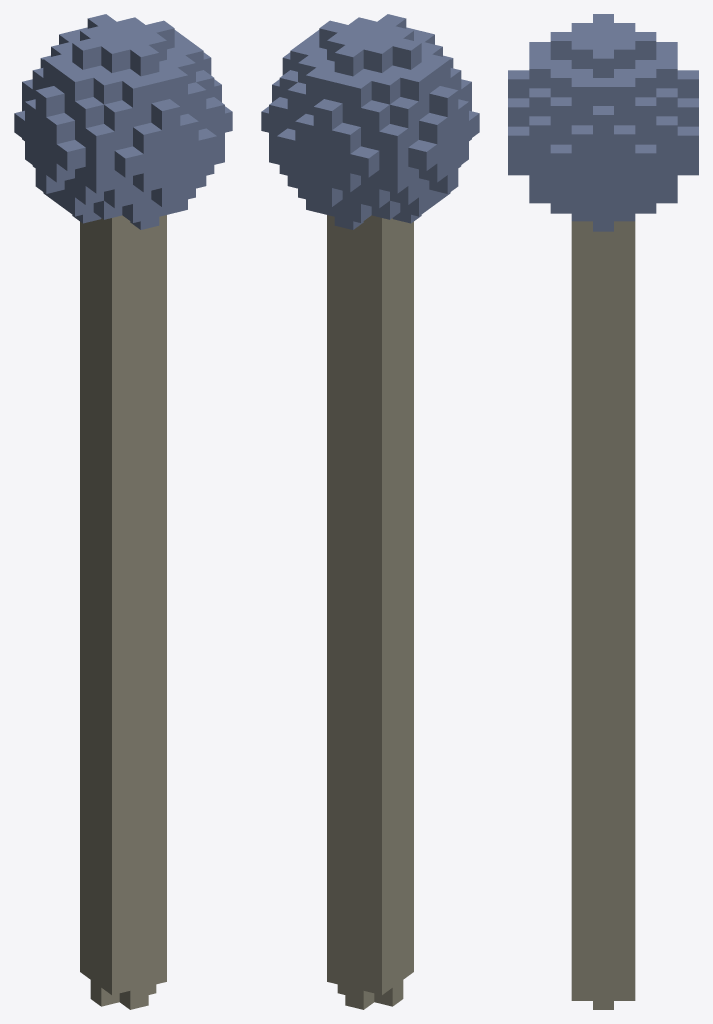
Rendered from factory4.2-23.obj.
3 views of the same model, side by side, from view 1: azimuth 30°, elevation 25°; view 2: azimuth 150°, elevation 25°; view 3: azimuth 270°, elevation 25° (orthographic).
Bounding box in the file's own units: 0.9 × 5 × 0.9.
1 material, 1 textured.
